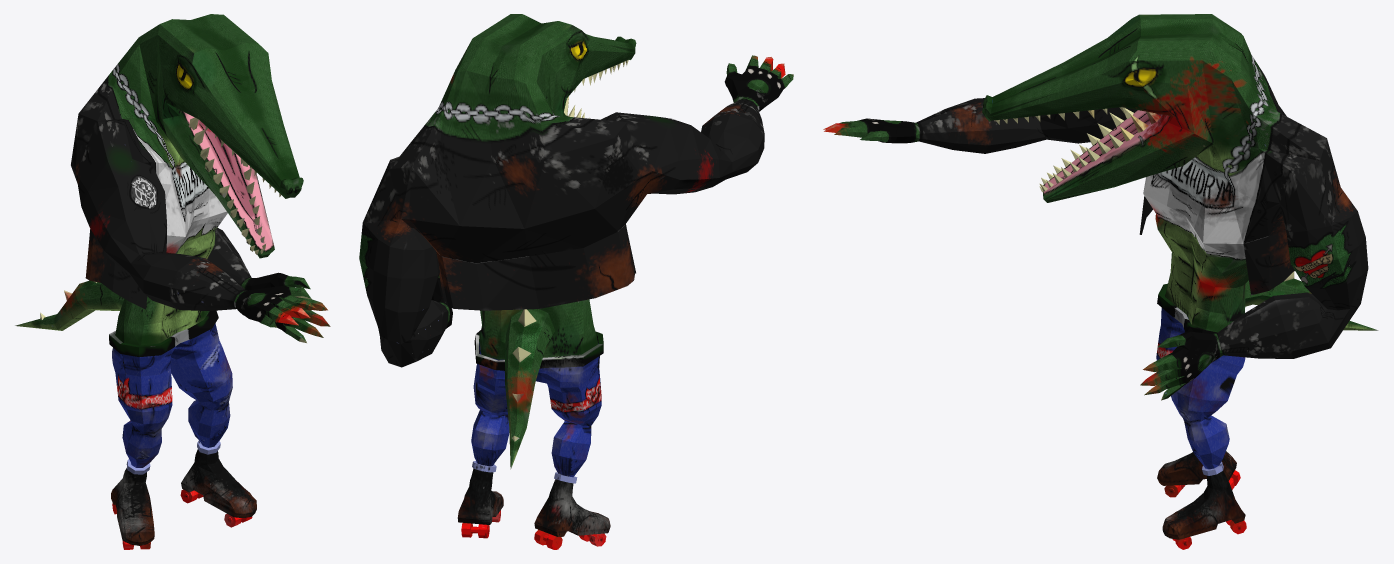
The model's file is cocodrilaBonesSelect_000013.obj.
3 views of the same model, side by side, from view 1: azimuth 30°, elevation 25°; view 2: azimuth 150°, elevation 25°; view 3: azimuth 270°, elevation 25° (orthographic).
Parts seen in each view (by area): view 1: Crocodile.002_Cylinder.002; view 2: Crocodile.002_Cylinder.002; view 3: Crocodile.002_Cylinder.002.
Boxes of the visible parts, <box> form: Crocodile.002_Cylinder.002: <box>15,14,330,549</box>; Crocodile.002_Cylinder.002: <box>359,14,793,549</box>; Crocodile.002_Cylinder.002: <box>823,14,1378,549</box>.
Bounding box in the file's own units: 3.52 × 6.63 × 6.68.
